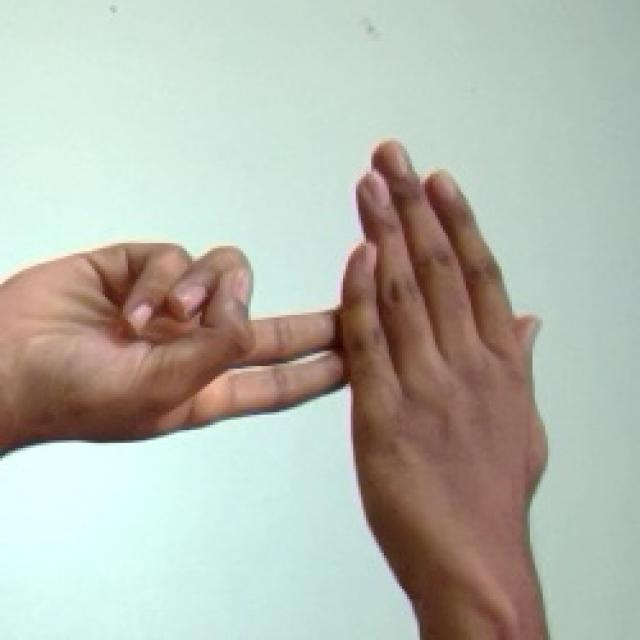Alphabet-N: (0, 148, 558, 639)
